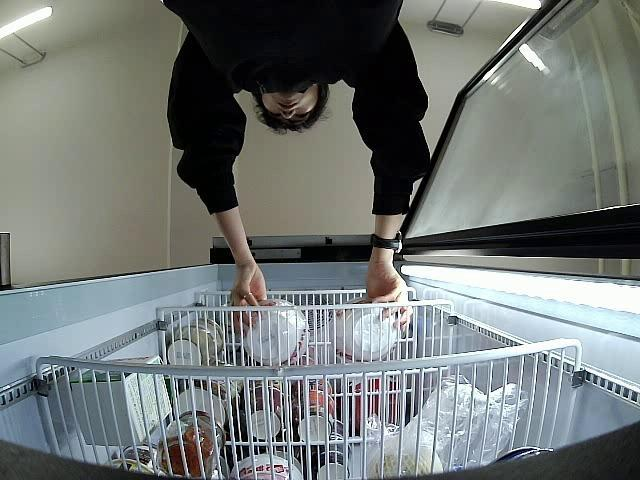09_yukGaeJang: (243, 300, 311, 366), (332, 298, 396, 361)
